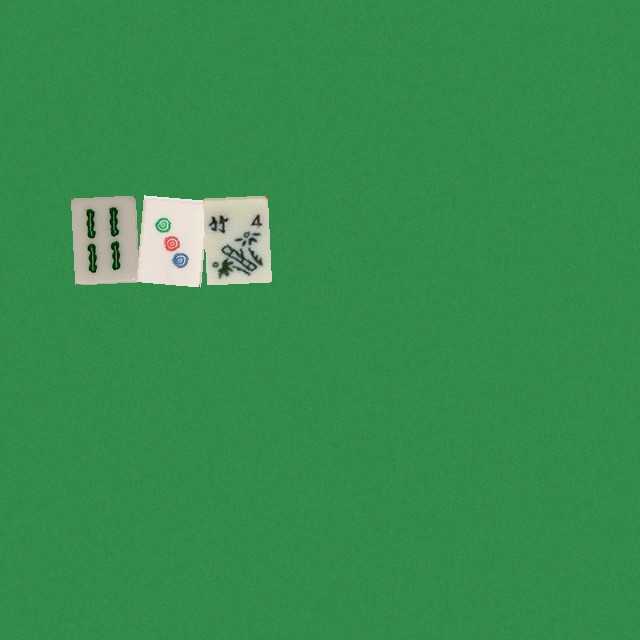tile: (70, 195, 135, 282), (136, 195, 201, 282), (202, 195, 267, 282)
